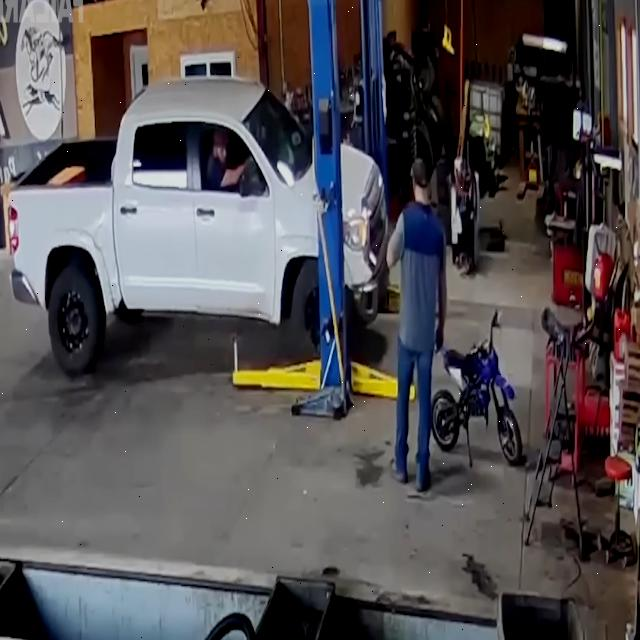standing: (387, 158, 446, 492)
